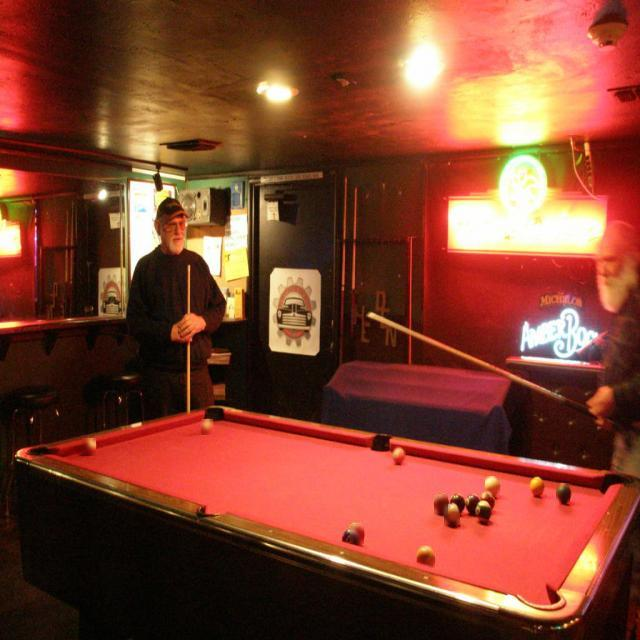Ball: (418, 546, 435, 568), (444, 504, 460, 525), (476, 502, 491, 522), (486, 476, 500, 497), (391, 446, 406, 465), (530, 478, 545, 497), (556, 483, 570, 503), (350, 524, 364, 544), (434, 494, 448, 514), (480, 492, 495, 510), (82, 438, 96, 456), (451, 495, 465, 513), (465, 494, 479, 512), (342, 529, 357, 545), (202, 419, 214, 435)
Billiard table: (13, 402, 639, 640)
